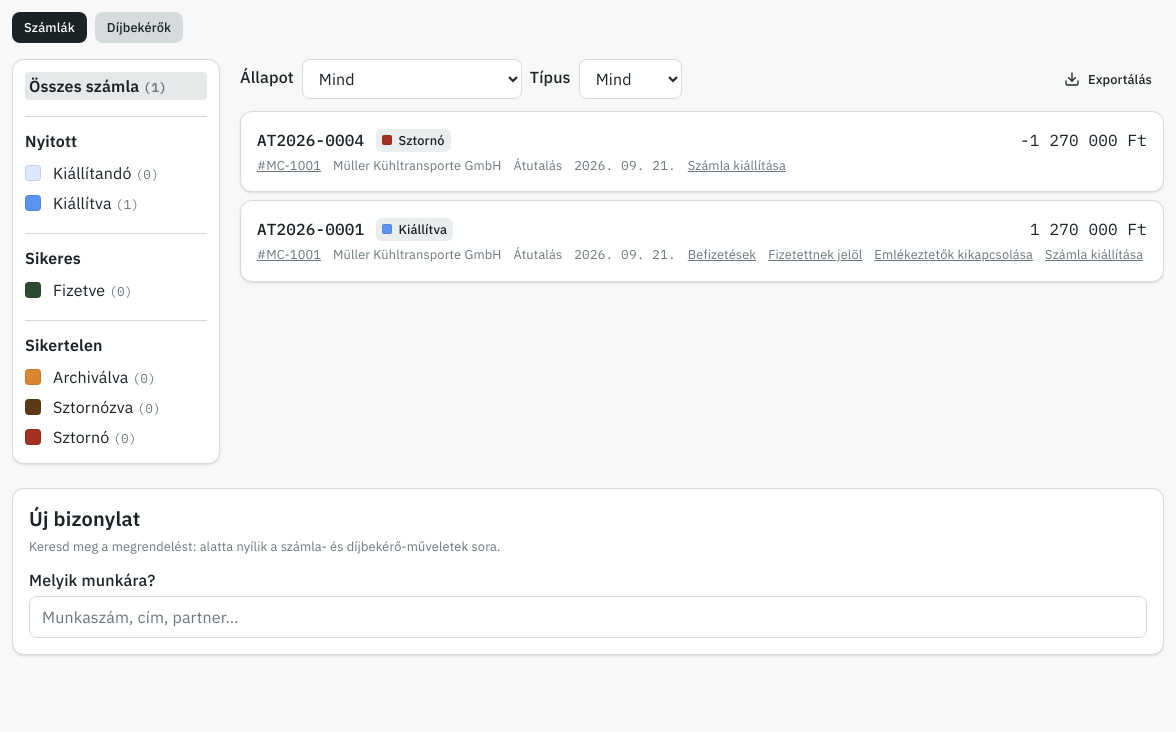
Számlázó page › the proforma tab offers invoicing from the proforma order
Expected: the text "AT2026-0001" is shown, x1=257 y1=217 x2=364 y2=241
Click the tab "Díjbekérők": {"x": 139, "y": 28} x1=95 y1=12 x2=183 y2=43
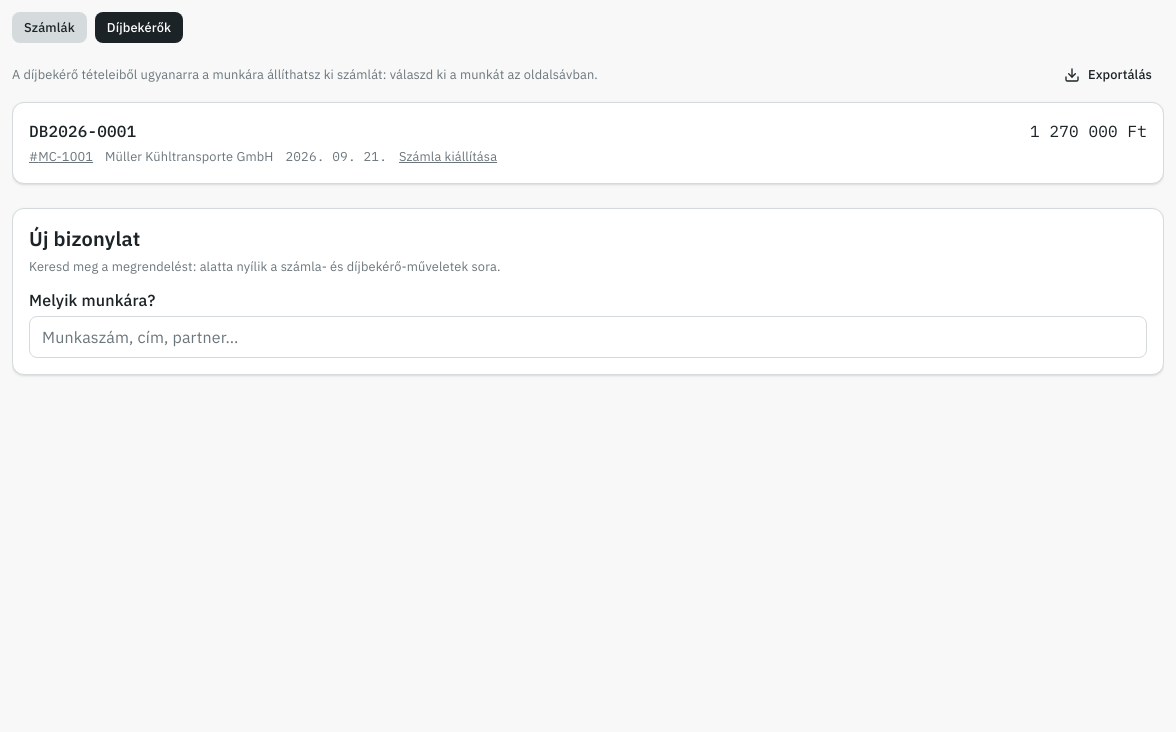
Expected: the text "DB2026-0001" is shown, x1=29 y1=119 x2=136 y2=143
Click the button "Számla kiállítása": {"x": 448, "y": 157} x1=399 y1=147 x2=497 y2=167
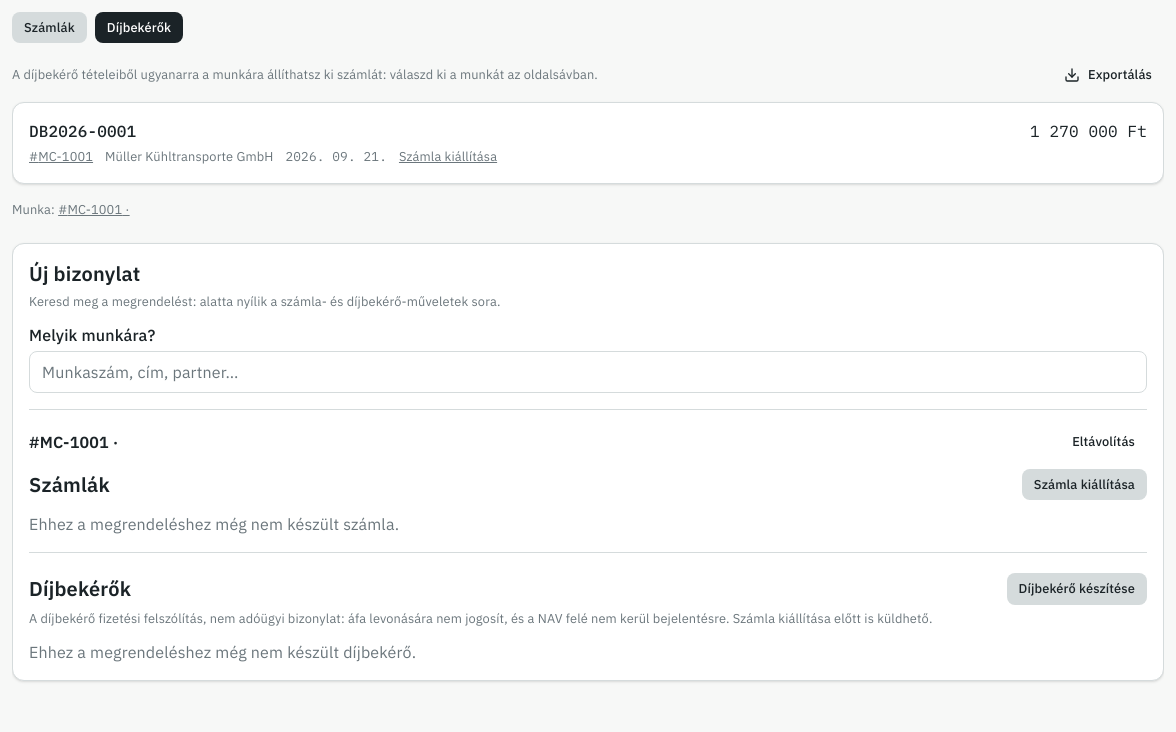
Expected: the button "Díjbekérő készítése" is shown, x1=1007 y1=573 x2=1147 y2=604
